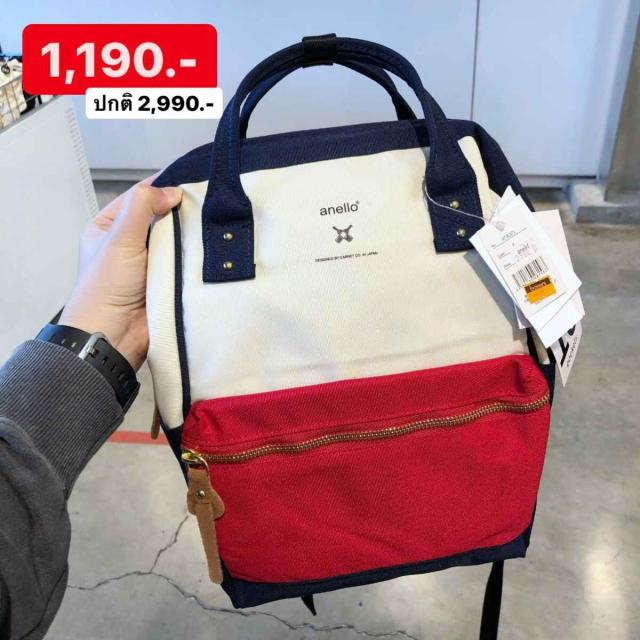Handbag: (131, 44, 569, 614)
